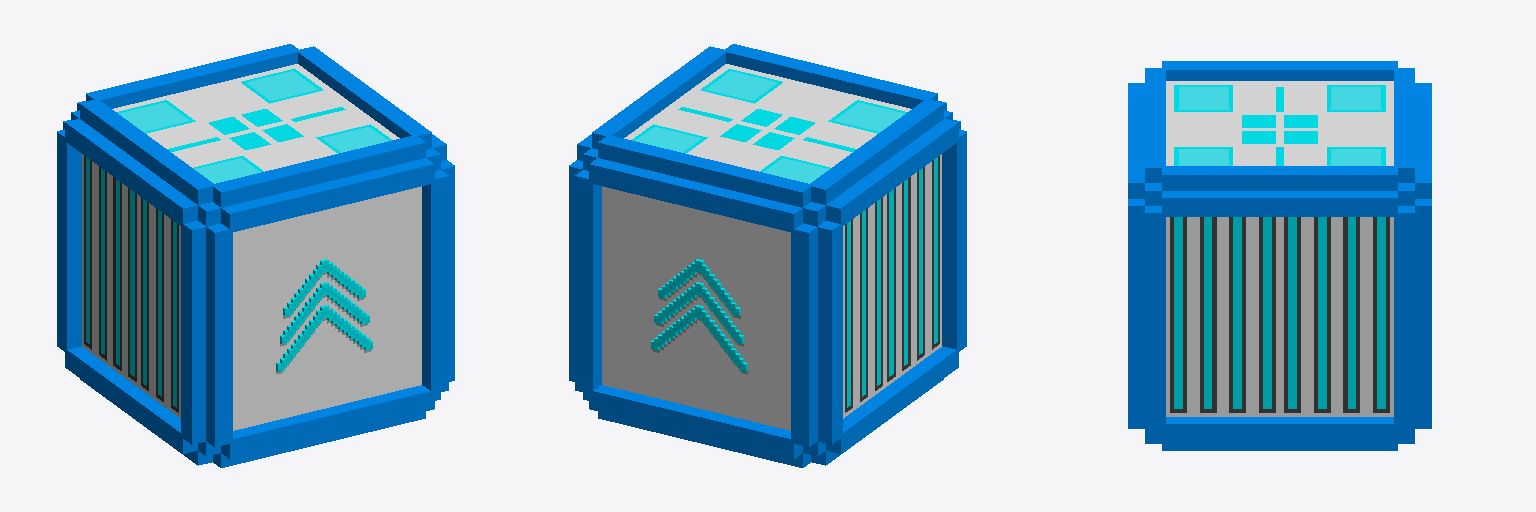
3 renders of one model, left to right at view 1: azimuth 30°, elevation 25°; view 2: azimuth 150°, elevation 25°; view 3: azimuth 270°, elevation 25°, orthographic.
Parts seen in each view (by area): view 1: object 1; view 2: object 1; view 3: object 1.
Boxes of the visible parts, <box> form: object 1: <box>57,44,454,467</box>; object 1: <box>569,44,966,467</box>; object 1: <box>1128,61,1431,450</box>.
Size of the model in its own units: 7.2 by 7.2 by 7.2.
Materials: 1 (1 with a texture image).